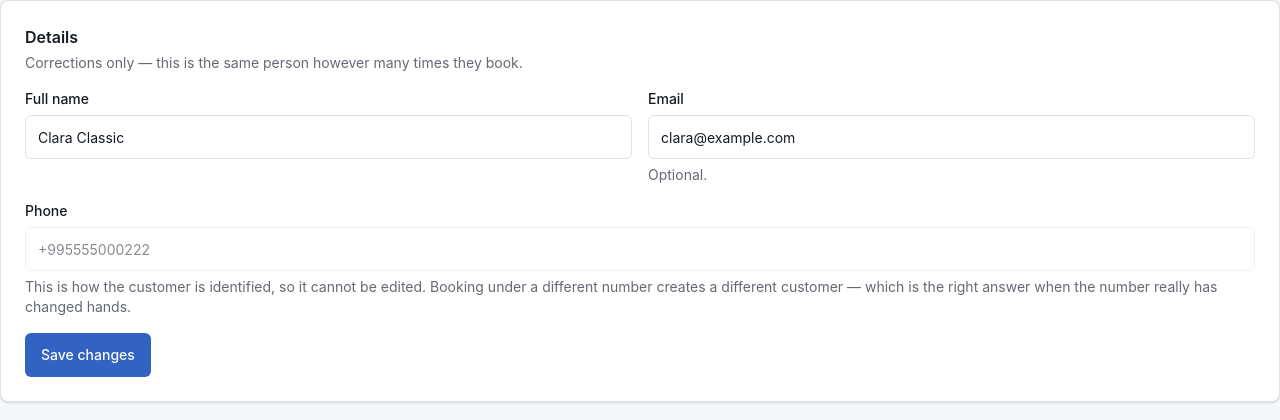
Scenario: CustomerForm, refused › puts a fielded message against its field, and no banner
The image size is (1280, 420).
Step 1. Replace the text in the field labelled "Full name" with "Clara Classical" → {"x": 328, "y": 137}, box [25,115,632,159]
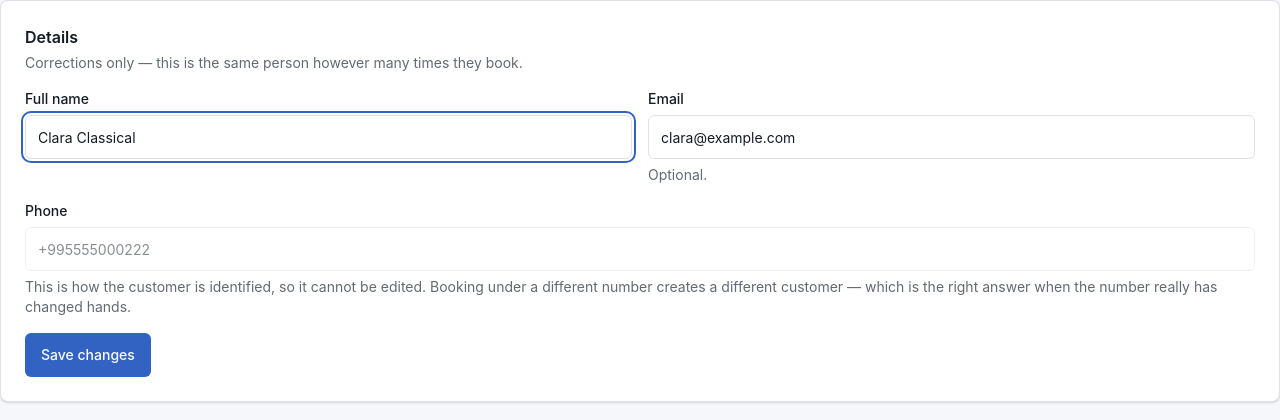
Step 2. Click the button "Save changes" → {"x": 88, "y": 355}, box [25,333,151,377]
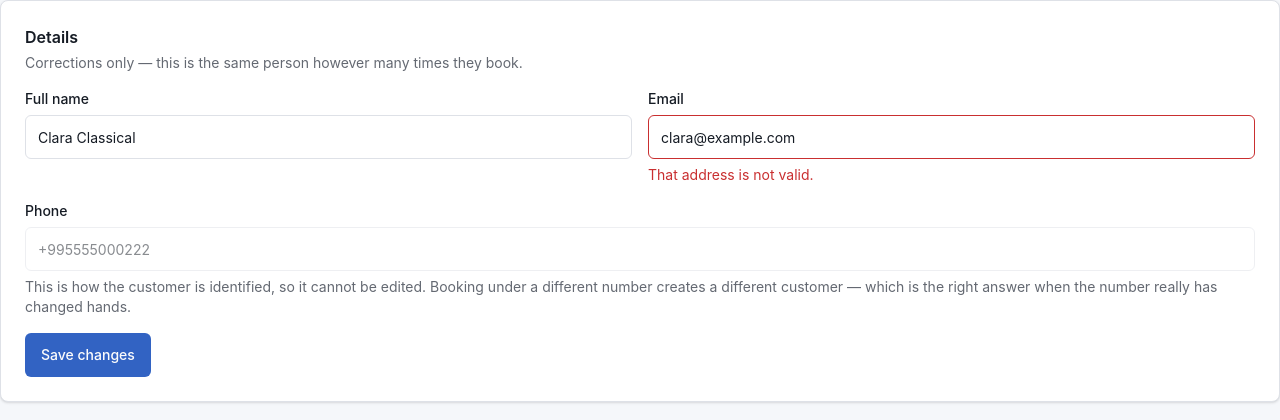
expect the text "That address is not valid." is shown: met, box [648,166,814,183]
